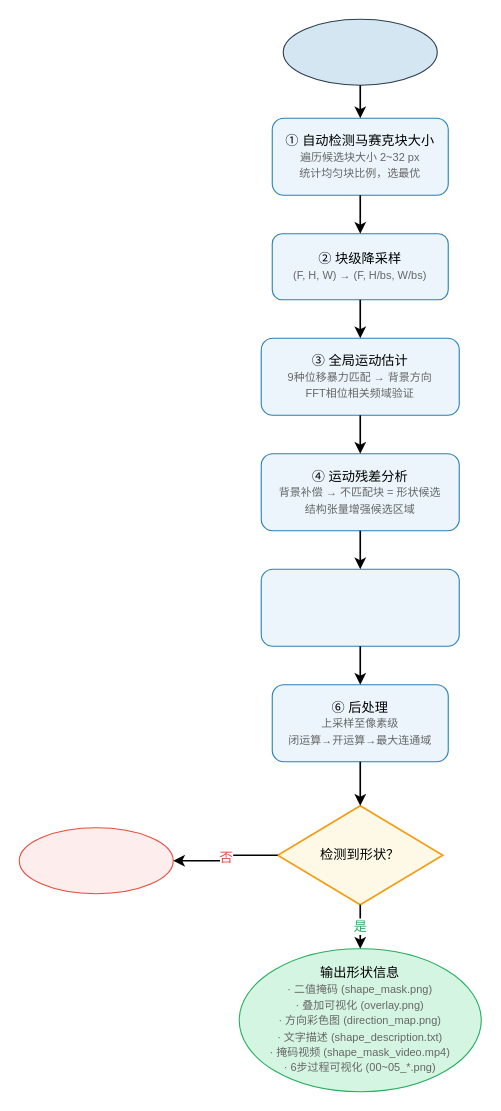
Some shapes in this 501 by 1111 pixel diagram are drawn without their labels. Each missing label, with the centre of its shape:
"⑤ 精炼形状掩码（二选一） 估计形状内部第二运动方向 比较两种方向匹配率 → 确认形状块" goes at [359,607].
"未检测到形状 反馈提示信息" goes at [95,860].
"输入马赛克视频" goes at [359,51].
